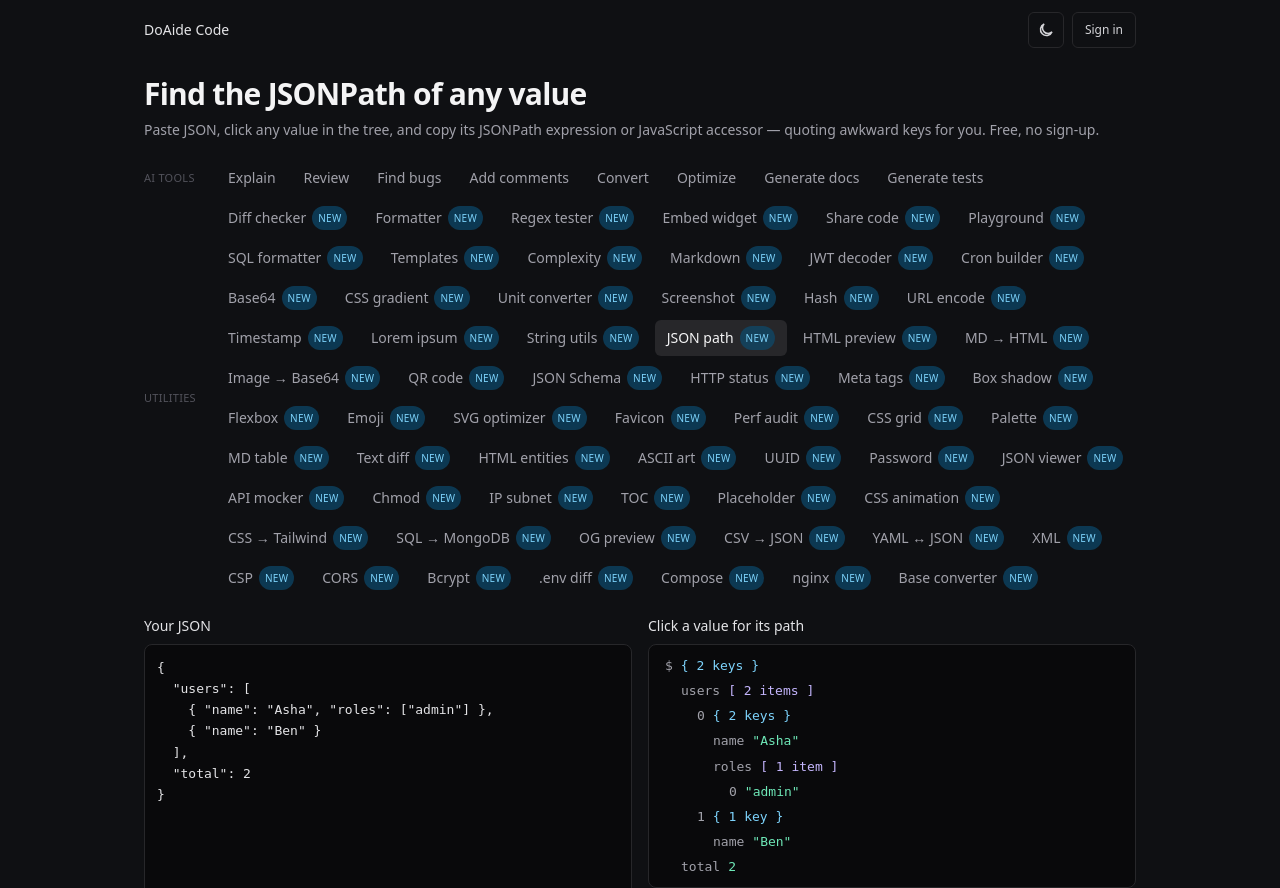
Scenario: JsonPathPage › clears the picked path when the JSON changes
The image size is (1280, 888).
Click the button with test id "jp-node-0". click: [720, 666]
box: [657,653,1127,678]
(page scrolled)
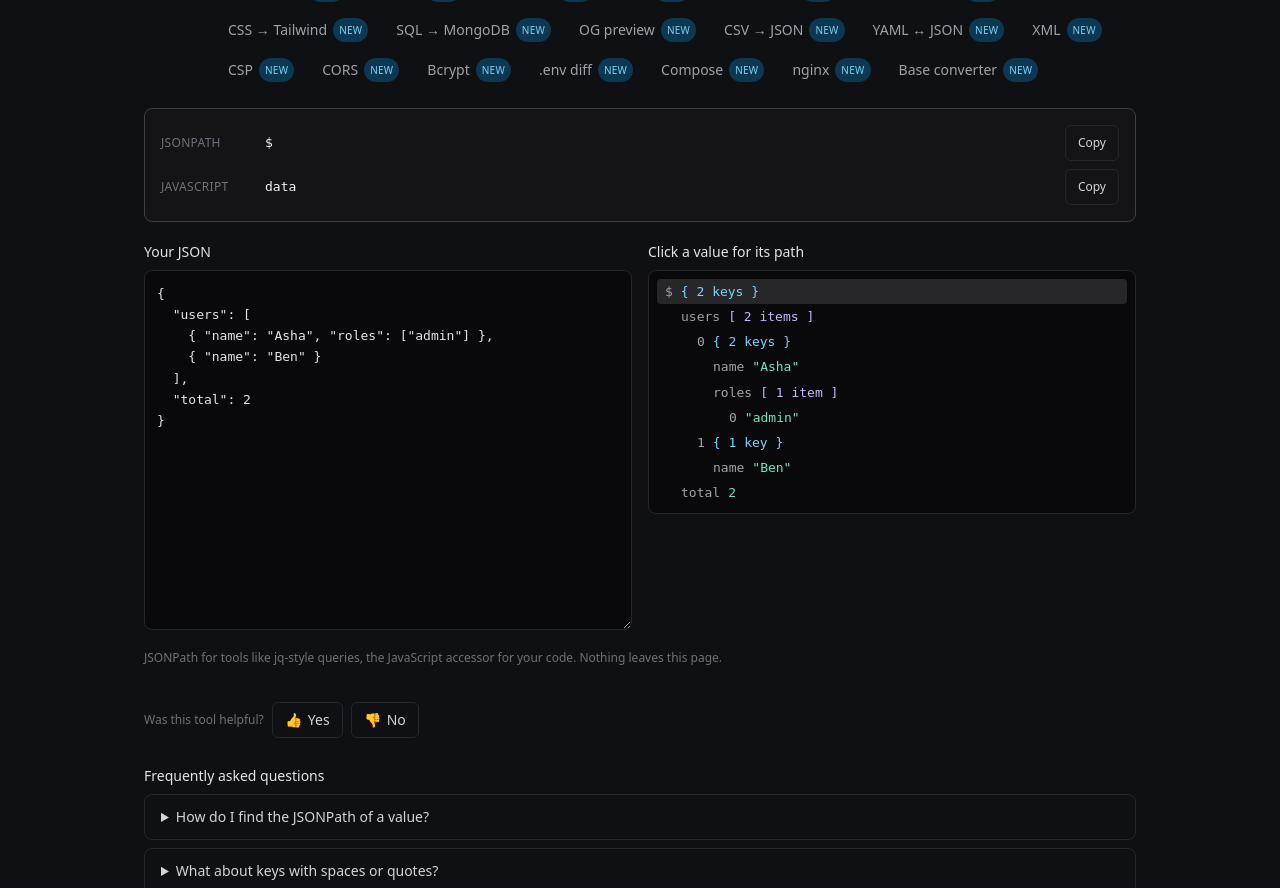
Replace the text in the text box with test id "jp-input" with "[1]". click: [388, 450]
box: [144,270,632,630]
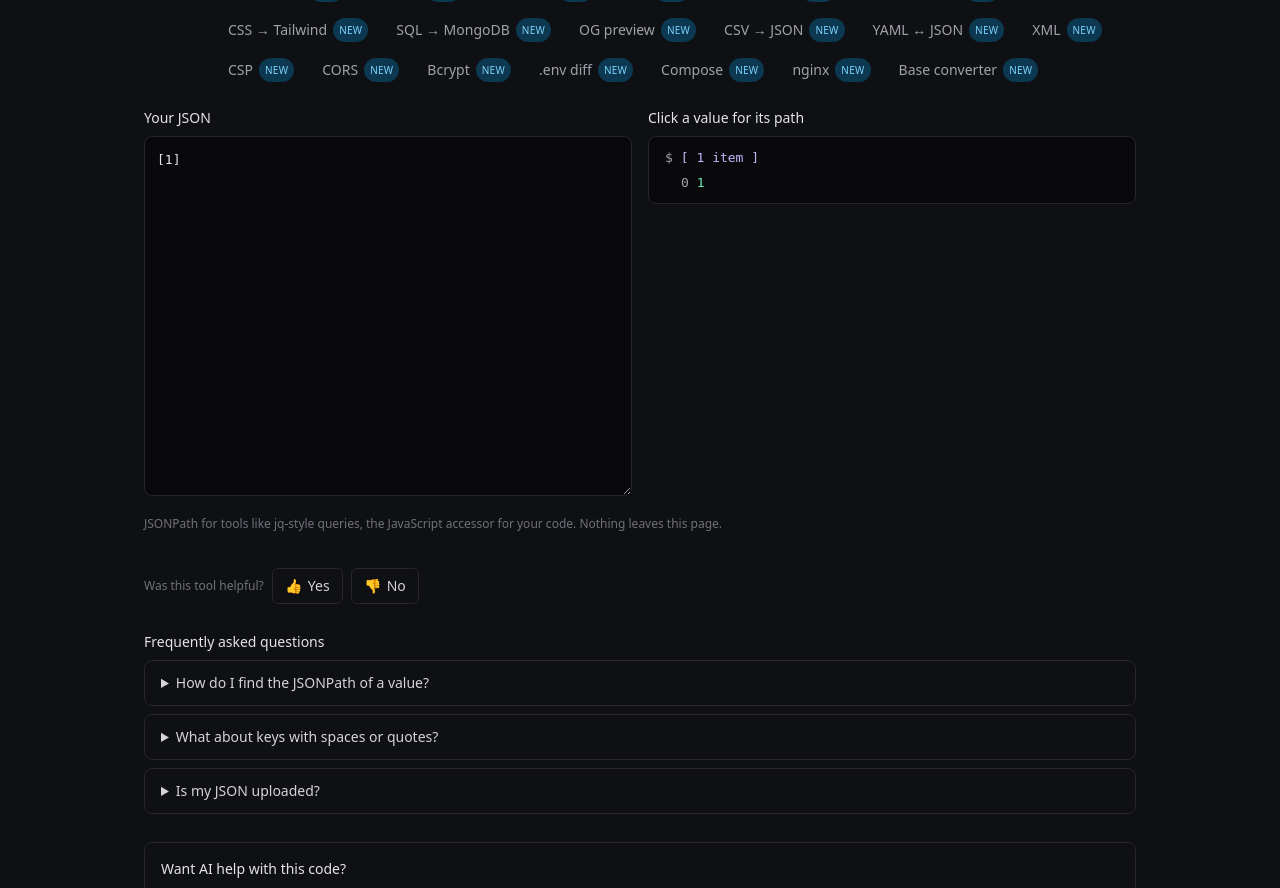
Now the element with test id "jp-picked" is gone
